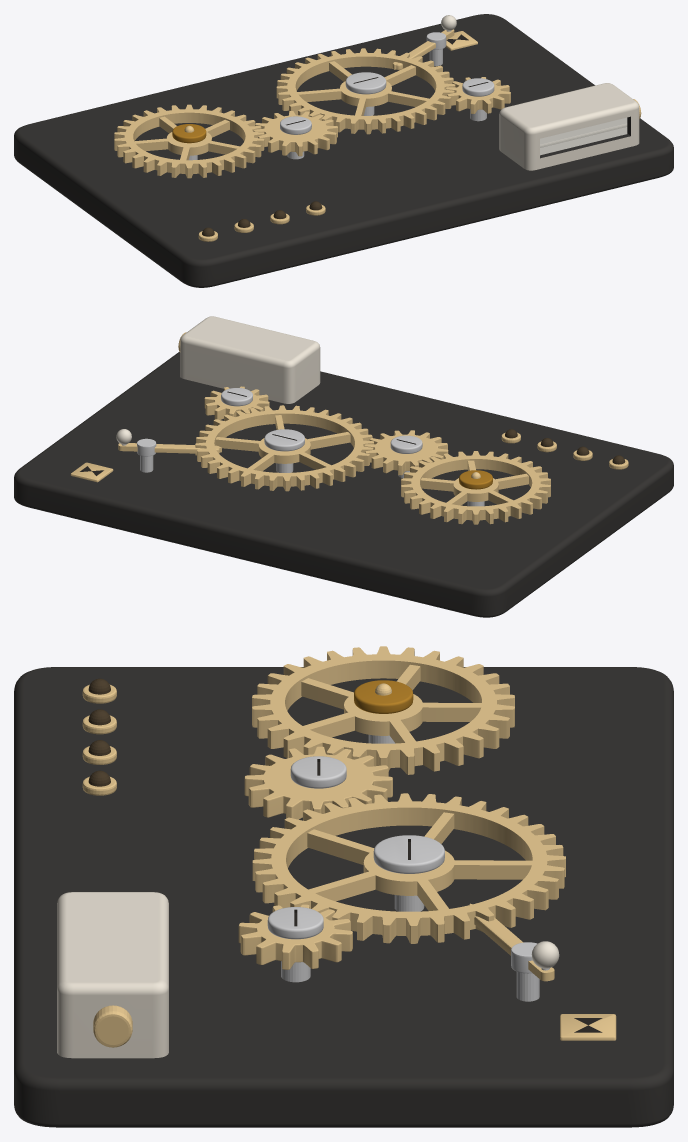
Rendered from geartrain.glb.
The picture shows the model from 3 angles, top to bottom: view 1: azimuth 30°, elevation 25°; view 2: azimuth 150°, elevation 25°; view 3: azimuth 270°, elevation 25°; orthographic projection. The views are drawn at different scales.
Parts seen in each view (by area): view 1: plate, gear2_mesh, counter, gear0_mesh, gear1_mesh, gear3_mesh, counter_face, pawl_mesh; view 2: plate, gear2_mesh, counter, gear0_mesh, gear1_mesh, gear3_mesh, pawl_mesh; view 3: plate, gear2_mesh, gear0_mesh, counter, gear1_mesh, gear3_mesh, pawl_mesh.
Part boxes in pixels (x1=…): plate: x1=14, y1=14, x2=673, y2=287; gear2_mesh: x1=276, y1=48, x2=455, y2=134; counter: x1=499, y1=83, x2=641, y2=170; gear0_mesh: x1=114, y1=104, x2=264, y2=178; gear1_mesh: x1=253, y1=111, x2=337, y2=156; gear3_mesh: x1=446, y1=77, x2=510, y2=113; counter_face: x1=540, y1=117, x2=627, y2=155; pawl_mesh: x1=392, y1=15, x2=456, y2=69; plate: x1=14, y1=352, x2=673, y2=617; gear2_mesh: x1=195, y1=405, x2=373, y2=491; counter: x1=178, y1=316, x2=320, y2=403; gear0_mesh: x1=401, y1=451, x2=550, y2=524; gear1_mesh: x1=364, y1=430, x2=448, y2=475; gear3_mesh: x1=204, y1=386, x2=269, y2=419; pawl_mesh: x1=116, y1=429, x2=221, y2=456; plate: x1=14, y1=667, x2=673, y2=1127; gear2_mesh: x1=252, y1=793, x2=565, y2=943; gear0_mesh: x1=252, y1=646, x2=514, y2=774; counter: x1=57, y1=892, x2=168, y2=1058; gear1_mesh: x1=244, y1=746, x2=392, y2=819; gear3_mesh: x1=238, y1=904, x2=352, y2=969; pawl_mesh: x1=469, y1=903, x2=559, y2=981.
Bounding box in the file's own units: 0.3 × 0.0447 × 0.2.
